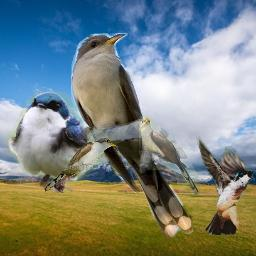Cuckoo: (71, 33, 193, 238), (139, 116, 200, 195), (43, 137, 119, 192)
Swallow: (7, 91, 123, 193), (195, 135, 255, 235)
